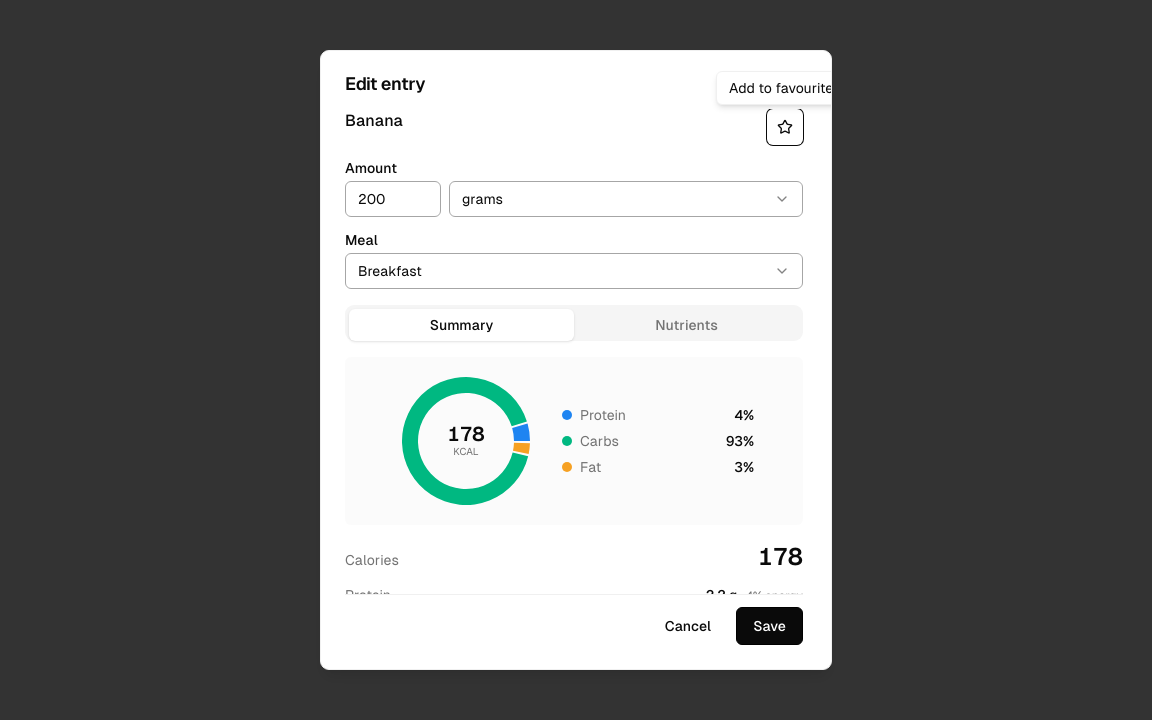
Test: LogFoodDialog › goal impact while editing › counts only the difference when the portion grows
Step 1. Replace the text in the number field with test id "input-quantity" with "400" → point(393, 199), box [345,181,441,217]
(page scrolled)
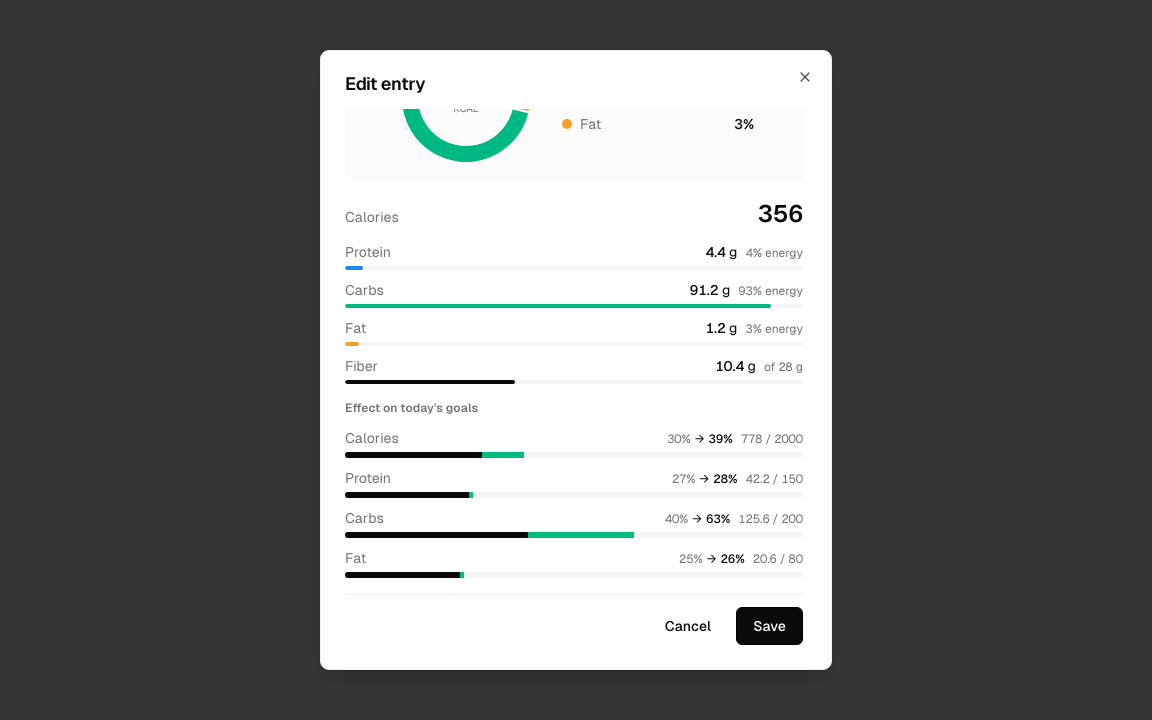
Now the element with test id "goal-contrib-calories" shows "30%→39%", box [345,428,803,458]
Now the element with test id "goal-contrib-calories" shows "778 / 2000", box [345,428,803,458]
